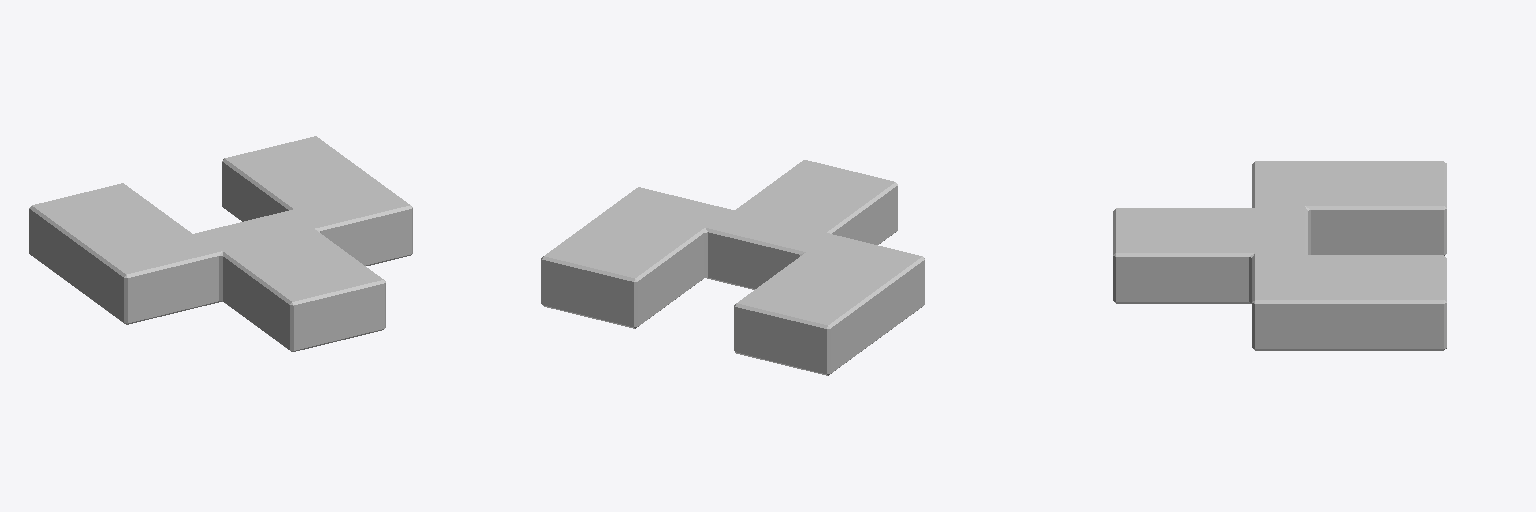
File: plate03.obj
3 views of the same model, side by side, from view 1: azimuth 30°, elevation 25°; view 2: azimuth 150°, elevation 25°; view 3: azimuth 270°, elevation 25° (orthographic).
Visible parts, largest first — view 1: Cube.001; view 2: Cube.001; view 3: Cube.001.
Part boxes in pixels (x1,y1,x2,y2): Cube.001: (29,136,412,351); Cube.001: (541,160,924,375); Cube.001: (1113,161,1446,350).
Bounding box in the file's own units: 12 × 2 × 12.